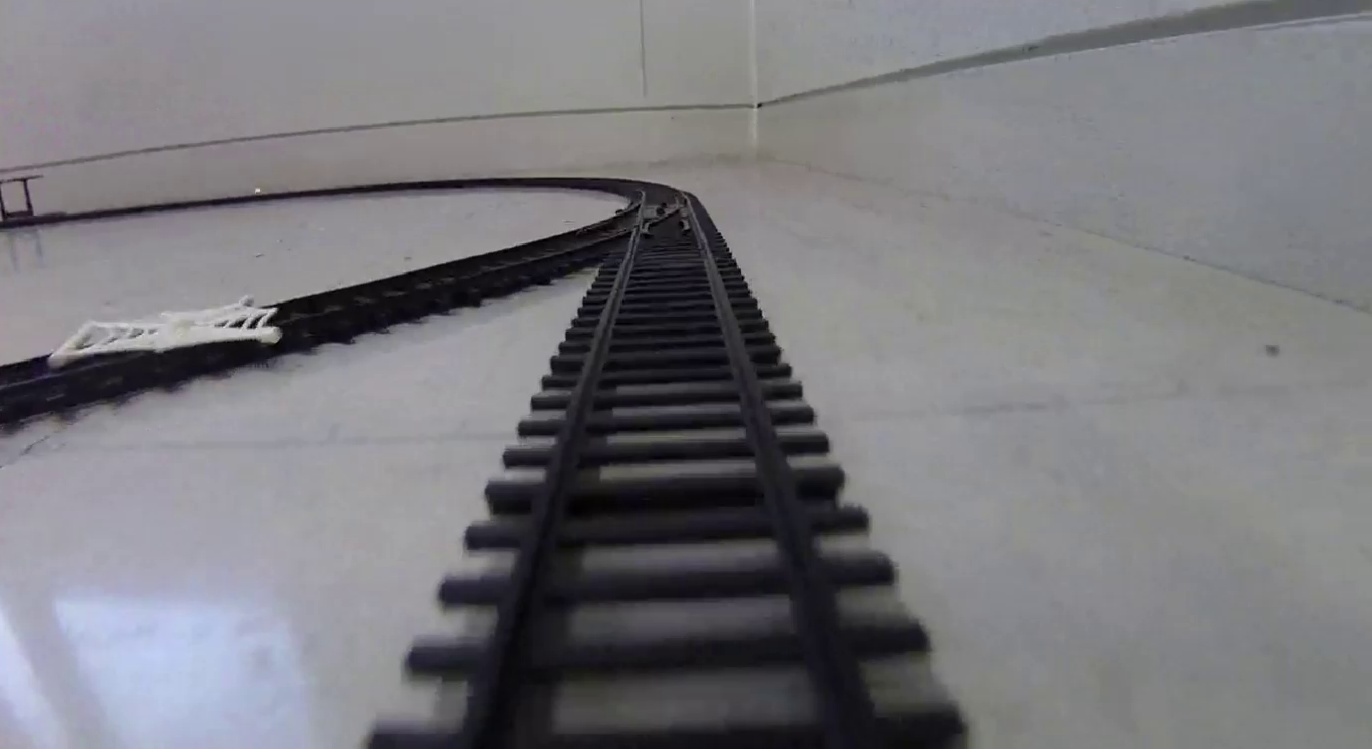web: (57, 300, 280, 353)
